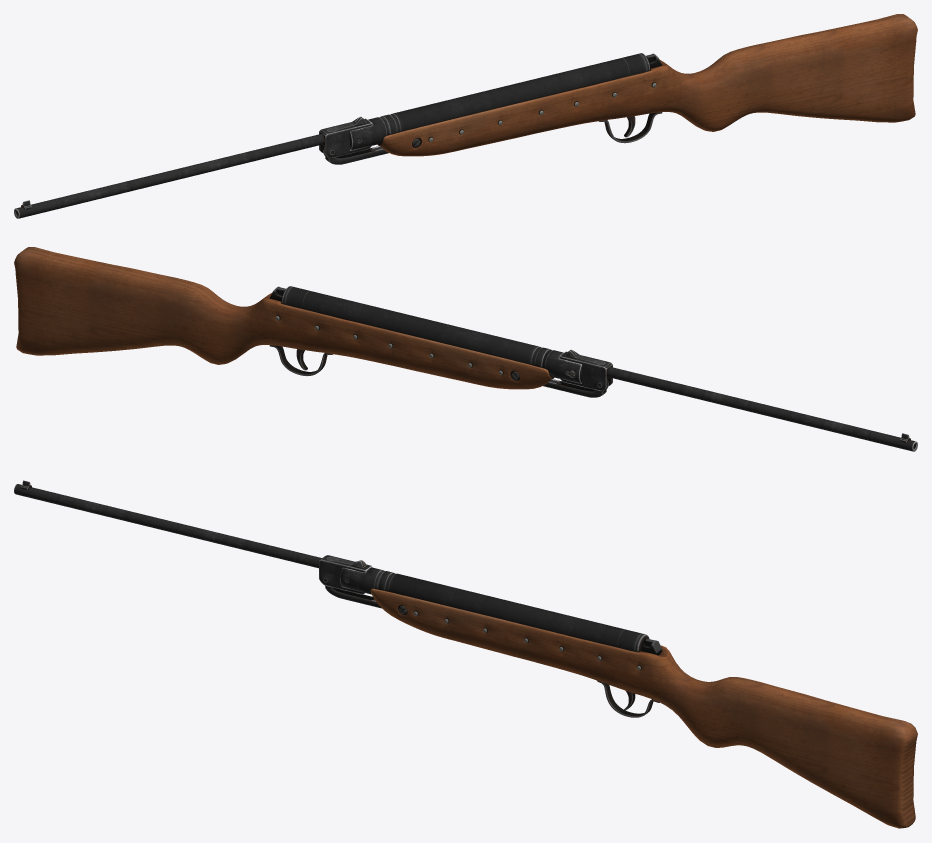
File: gun.obj
3 views of the same model, one above another, from view 1: azimuth 30°, elevation 25°; view 2: azimuth 150°, elevation 25°; view 3: azimuth 330°, elevation 25° (orthographic).
Visible parts, largest first — view 1: Air_Gun_Grif.001; view 2: Air_Gun_Grif.001; view 3: Air_Gun_Grif.001.
Part boxes in pixels (box(x1,y1,x2,y2)): Air_Gun_Grif.001: box(14, 14, 917, 218); Air_Gun_Grif.001: box(14, 247, 917, 451); Air_Gun_Grif.001: box(14, 480, 917, 828).
Bounding box in the file's own units: 1.42 × 0.2022 × 0.0439.
1 material, 1 textured.
